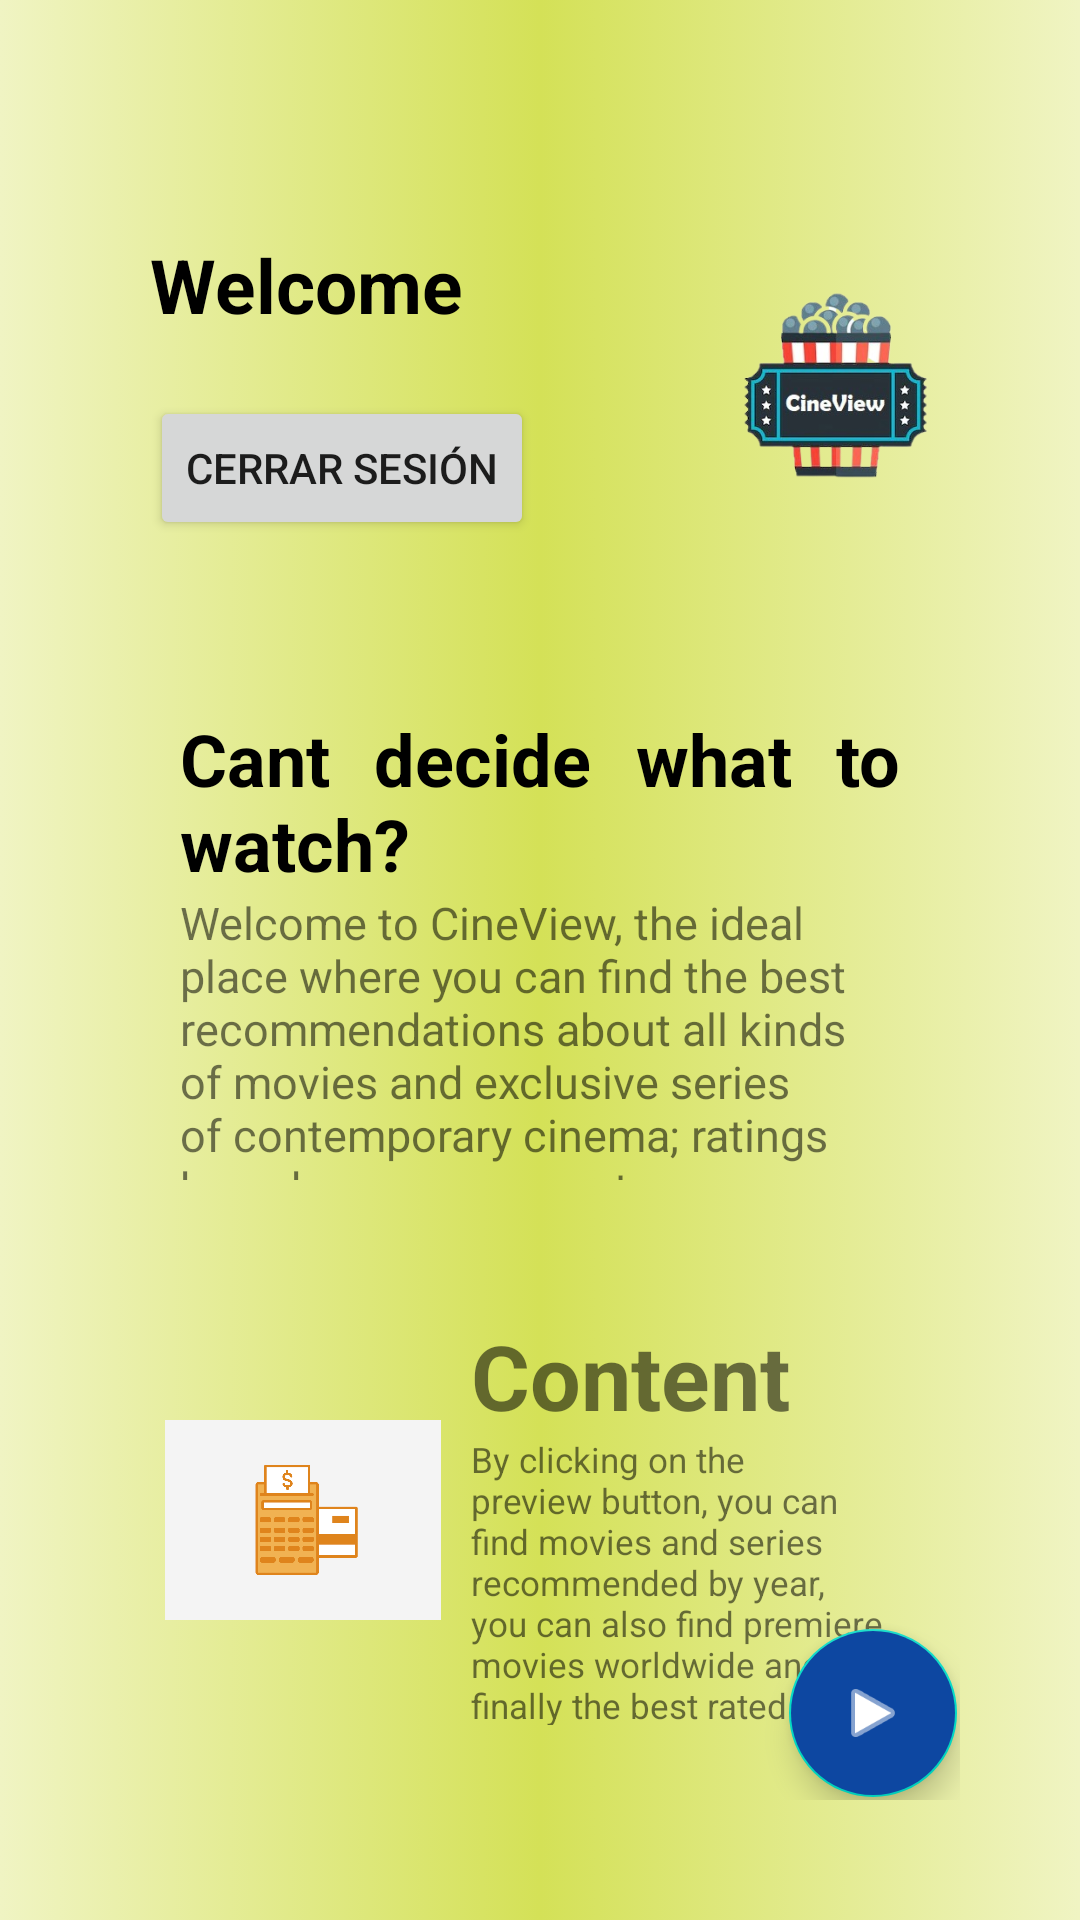

Screen size 1080*1920. Icon name, then its center in pixels as (x,y):
play: (873,1713)
